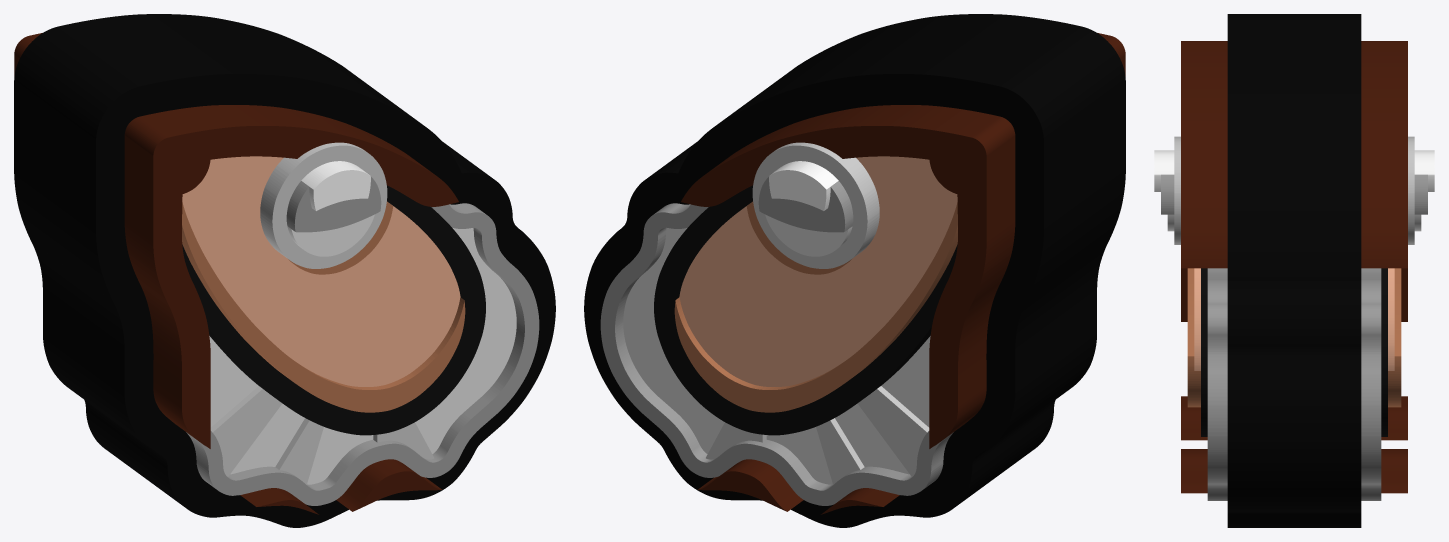
3 views of the same model, side by side, from view 1: azimuth 30°, elevation 25°; view 2: azimuth 150°, elevation 25°; view 3: azimuth 270°, elevation 25° (orthographic). The views are drawn at different scales.
Visible parts, largest first — view 1: U+1F9AA_layer00_obj00, U+1F9AA_layer07_obj00, U+1F9AA_layer05_obj00, U+1F9AA_layer03_obj00, U+1F9AA_layer04_obj00, U+1F9AA_layer01_obj00, U+1F9AA_layer06_obj00, U+1F9AA_layer08_obj00, U+1F9AA_layer02_obj00, U+1F9AA_layer10_obj00, U+1F9AA_layer11_obj00, U+1F9AA_layer09_obj00; view 2: U+1F9AA_layer00_obj00, U+1F9AA_layer07_obj00, U+1F9AA_layer05_obj00, U+1F9AA_layer03_obj00, U+1F9AA_layer04_obj00, U+1F9AA_layer01_obj00, U+1F9AA_layer06_obj00, U+1F9AA_layer08_obj00, U+1F9AA_layer02_obj00, U+1F9AA_layer10_obj00, U+1F9AA_layer11_obj00, U+1F9AA_layer09_obj00; view 3: U+1F9AA_layer00_obj00, U+1F9AA_layer07_obj00, U+1F9AA_layer03_obj00, U+1F9AA_layer06_obj00, U+1F9AA_layer04_obj00, U+1F9AA_layer08_obj00, U+1F9AA_layer05_obj00, U+1F9AA_layer11_obj00, U+1F9AA_layer10_obj00.
Boxes of the visible parts, x1=… form: U+1F9AA_layer00_obj00: x1=14, y1=14, x2=555, y2=527; U+1F9AA_layer07_obj00: x1=14, y1=33, x2=458, y2=514; U+1F9AA_layer05_obj00: x1=182, y1=156, x2=460, y2=386; U+1F9AA_layer03_obj00: x1=186, y1=203, x2=539, y2=505; U+1F9AA_layer04_obj00: x1=182, y1=185, x2=485, y2=435; U+1F9AA_layer01_obj00: x1=209, y1=228, x2=516, y2=484; U+1F9AA_layer06_obj00: x1=182, y1=202, x2=465, y2=412; U+1F9AA_layer08_obj00: x1=260, y1=142, x2=387, y2=268; U+1F9AA_layer02_obj00: x1=210, y1=386, x2=433, y2=484; U+1F9AA_layer10_obj00: x1=286, y1=167, x2=381, y2=232; U+1F9AA_layer11_obj00: x1=301, y1=161, x2=370, y2=210; U+1F9AA_layer09_obj00: x1=287, y1=214, x2=374, y2=256; U+1F9AA_layer00_obj00: x1=584, y1=14, x2=1125, y2=527; U+1F9AA_layer07_obj00: x1=681, y1=33, x2=1125, y2=514; U+1F9AA_layer05_obj00: x1=679, y1=156, x2=957, y2=386; U+1F9AA_layer03_obj00: x1=600, y1=203, x2=953, y2=505; U+1F9AA_layer04_obj00: x1=654, y1=185, x2=957, y2=435; U+1F9AA_layer01_obj00: x1=623, y1=228, x2=930, y2=484; U+1F9AA_layer06_obj00: x1=674, y1=202, x2=957, y2=412; U+1F9AA_layer08_obj00: x1=752, y1=142, x2=879, y2=268; U+1F9AA_layer02_obj00: x1=706, y1=386, x2=929, y2=484; U+1F9AA_layer10_obj00: x1=758, y1=167, x2=853, y2=232; U+1F9AA_layer11_obj00: x1=769, y1=161, x2=838, y2=210; U+1F9AA_layer09_obj00: x1=765, y1=214, x2=852, y2=256; U+1F9AA_layer00_obj00: x1=1227, y1=14, x2=1361, y2=527; U+1F9AA_layer07_obj00: x1=1181, y1=41, x2=1407, y2=493; U+1F9AA_layer03_obj00: x1=1207, y1=268, x2=1381, y2=500; U+1F9AA_layer06_obj00: x1=1187, y1=268, x2=1401, y2=407; U+1F9AA_layer04_obj00: x1=1201, y1=268, x2=1387, y2=436; U+1F9AA_layer08_obj00: x1=1174, y1=136, x2=1414, y2=244; U+1F9AA_layer05_obj00: x1=1194, y1=268, x2=1394, y2=370; U+1F9AA_layer11_obj00: x1=1154, y1=150, x2=1434, y2=191; U+1F9AA_layer10_obj00: x1=1161, y1=174, x2=1427, y2=214.
Bounding box in the file's own units: 0.6491 × 0.649 × 0.42.
